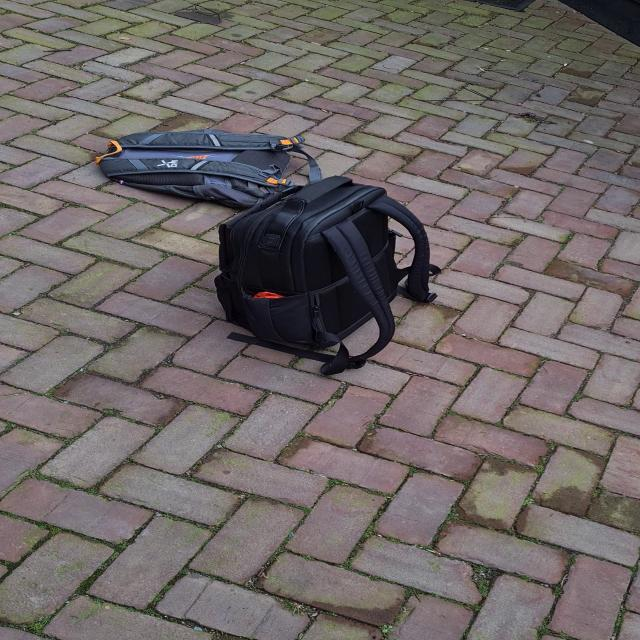backpack: (201, 169, 427, 360), (87, 126, 330, 210)
